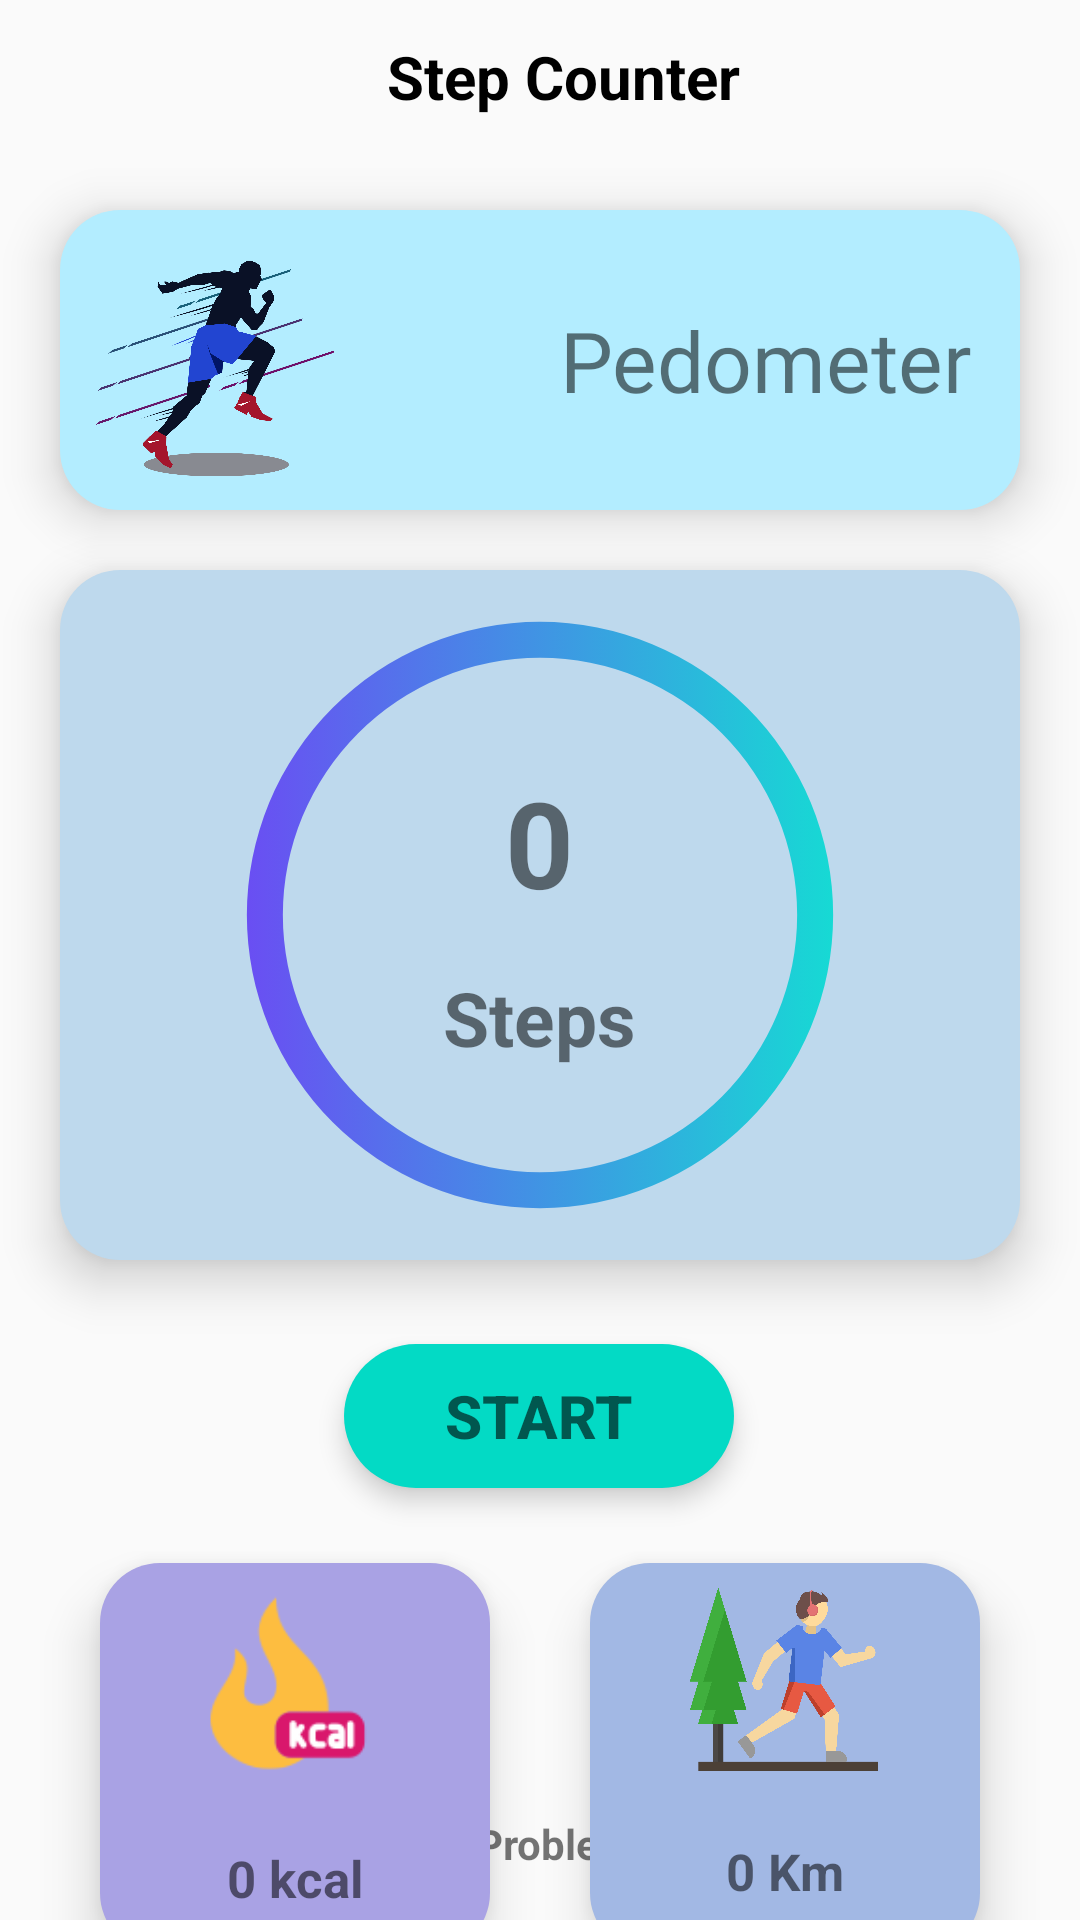

Where to tap for icons on this 1080 × 1920 app screen, as [x,y]:
running counter: [217,360]
running road: [784,1679]
